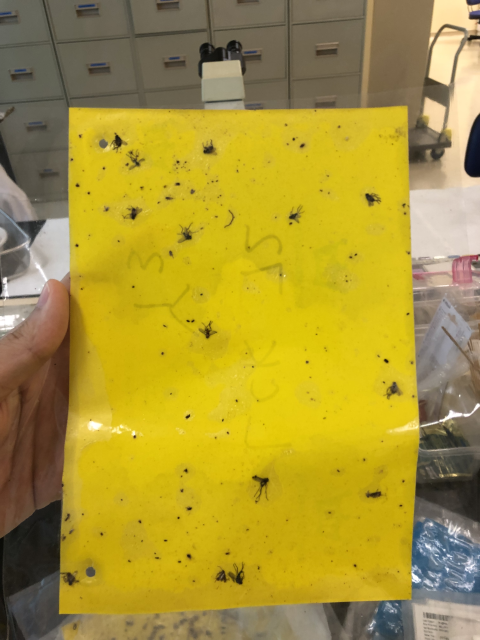DBM: (214, 564, 231, 586)
